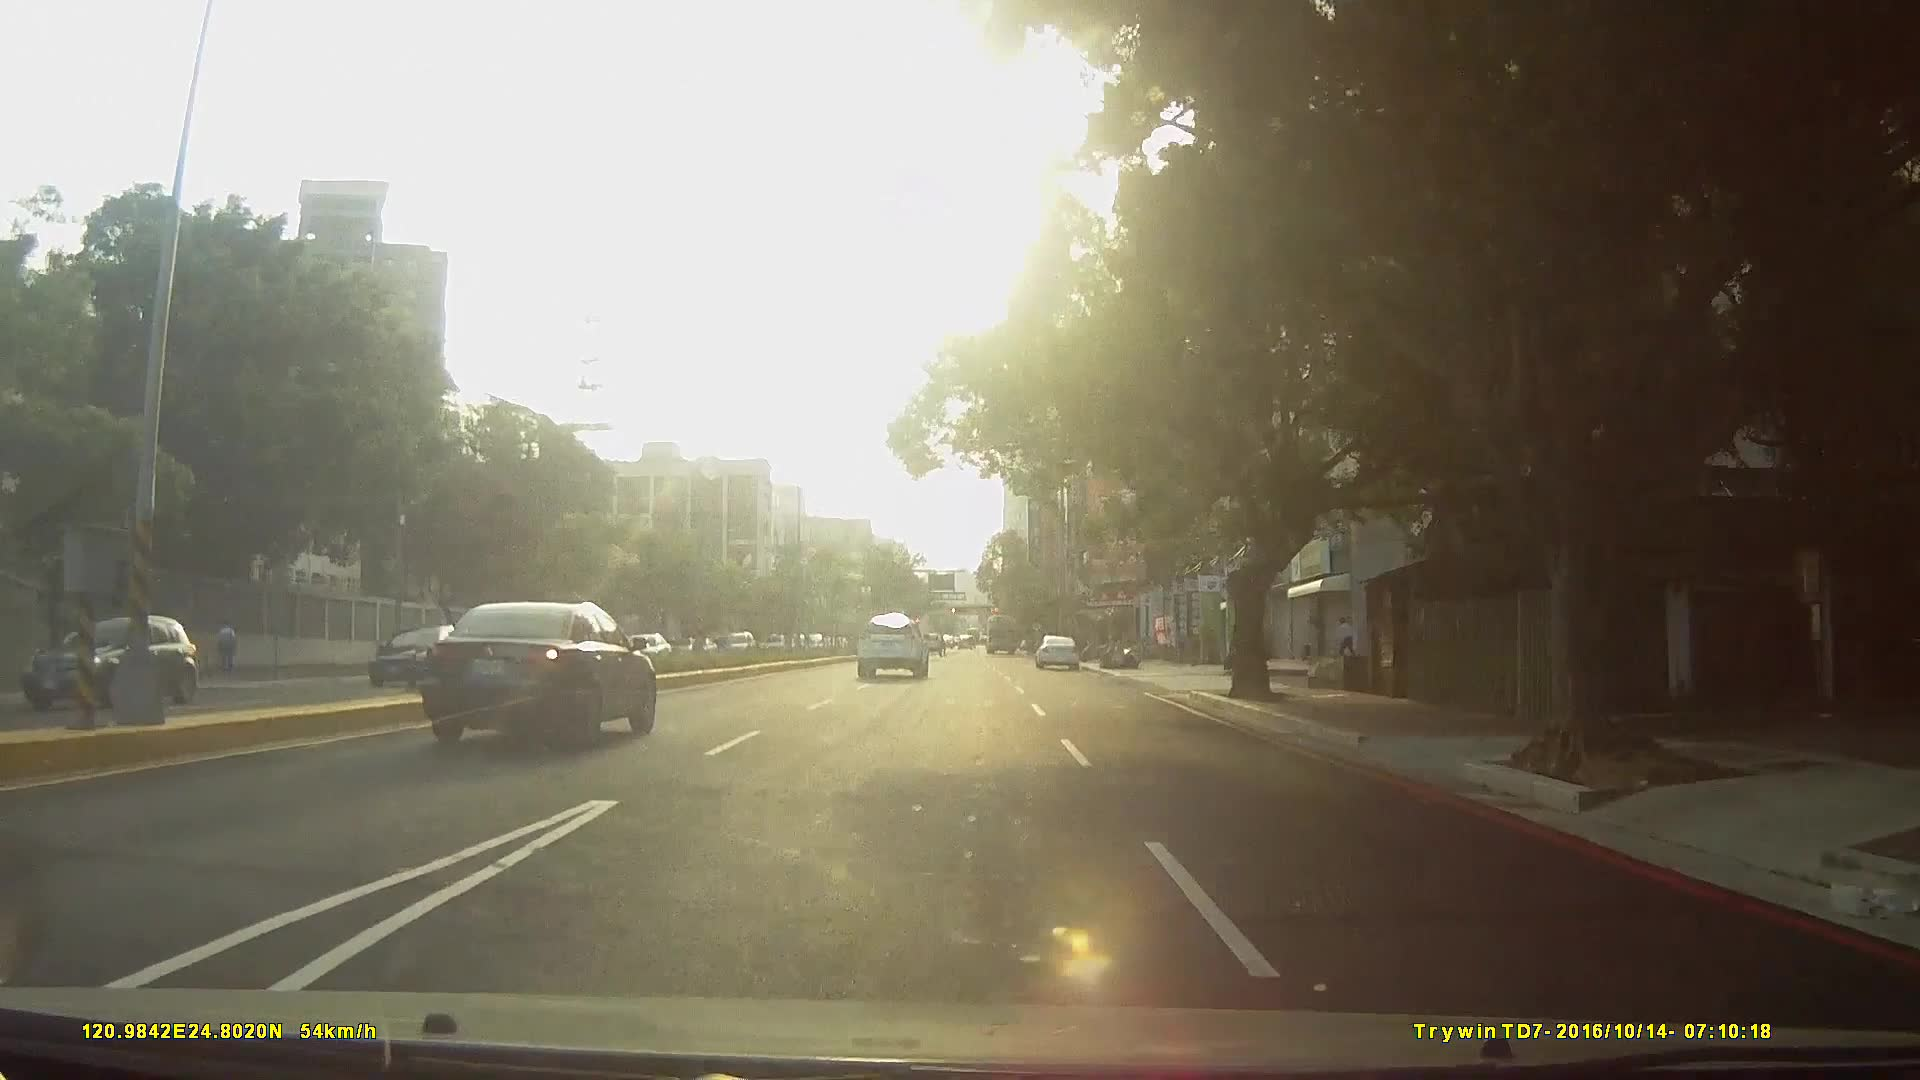pedestrian: (213, 615, 243, 673), (1338, 618, 1359, 662)
vehicle: (423, 596, 660, 752), (23, 608, 206, 722), (355, 621, 483, 689), (855, 606, 931, 677), (1034, 629, 1081, 669), (982, 608, 1021, 653)
